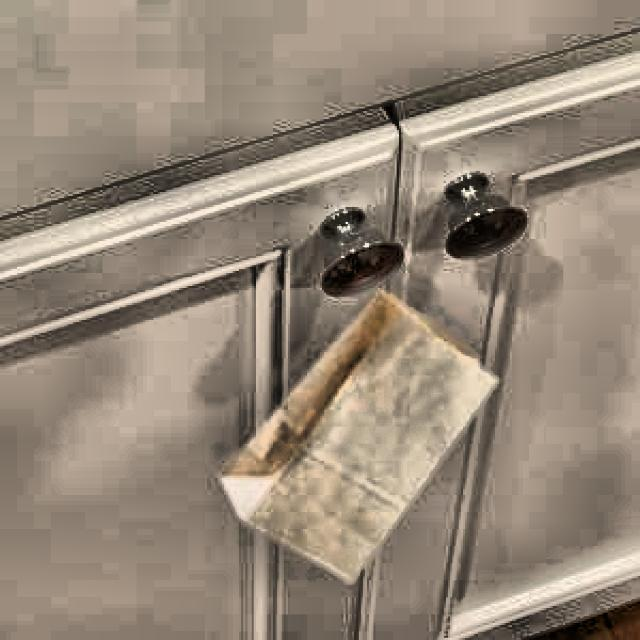Paper-bag: (216, 285, 507, 615)
